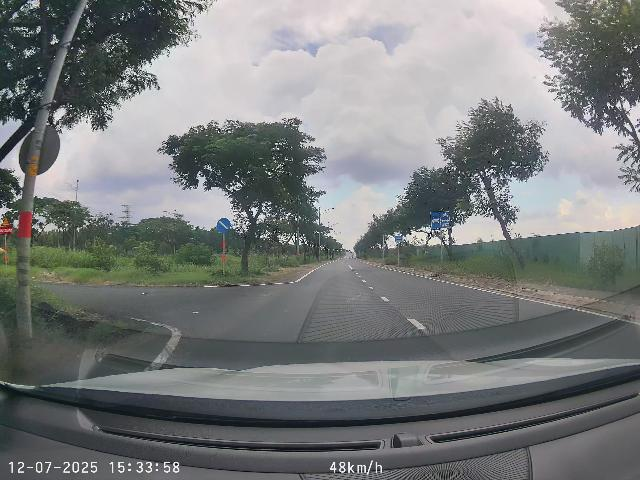302a-huong-phai-di-vong-chuong-ngai-vat-1: (217, 218, 231, 233)
